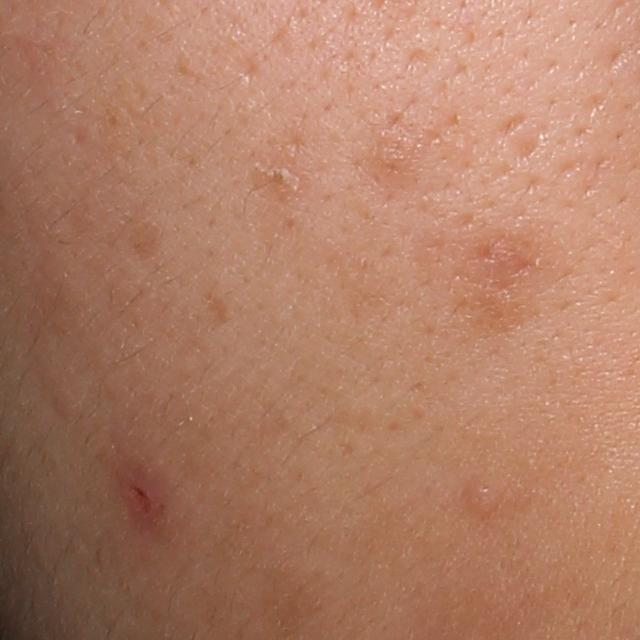comedo: (467, 481, 501, 518)
